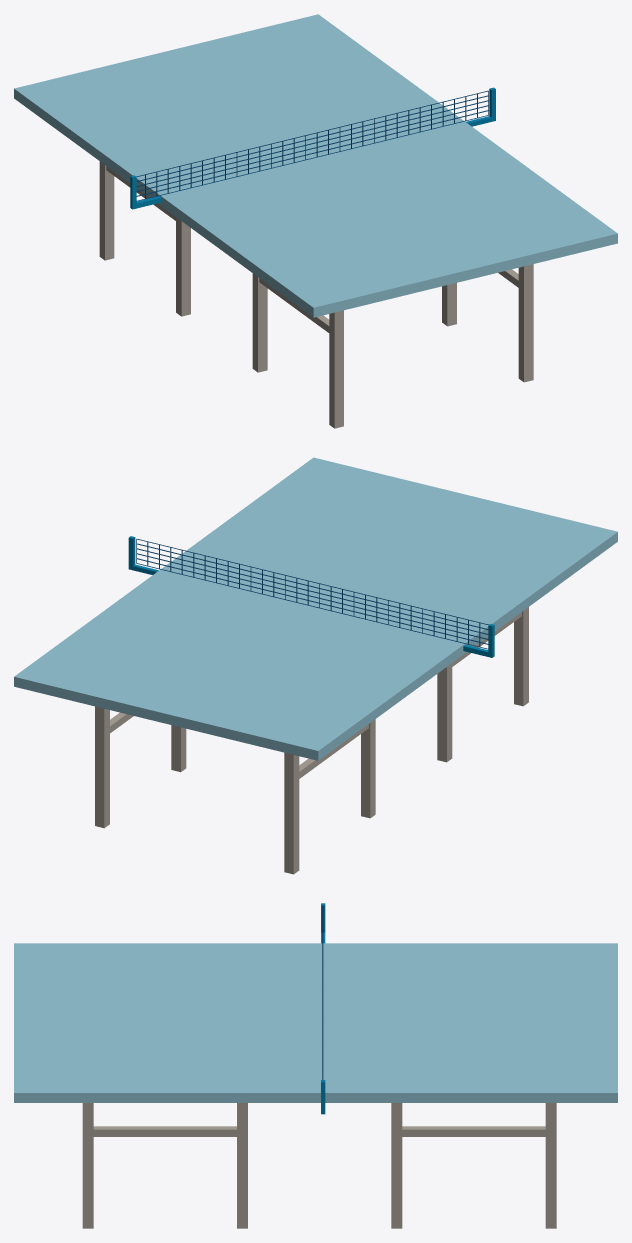
File: PingPong.fbx
The picture shows the model from 3 angles, top to bottom: view 1: azimuth 30°, elevation 25°; view 2: azimuth 150°, elevation 25°; view 3: azimuth 270°, elevation 25°; orthographic projection.
Visible parts, largest first — view 1: PingPong; view 2: PingPong; view 3: PingPong.
Part boxes in pixels (x1,y1,x2,y2): PingPong: (14,14,617,428); PingPong: (14,457,617,874); PingPong: (14,903,617,1228).
Size of the model in its own units: 192 by 93.21 by 274.
